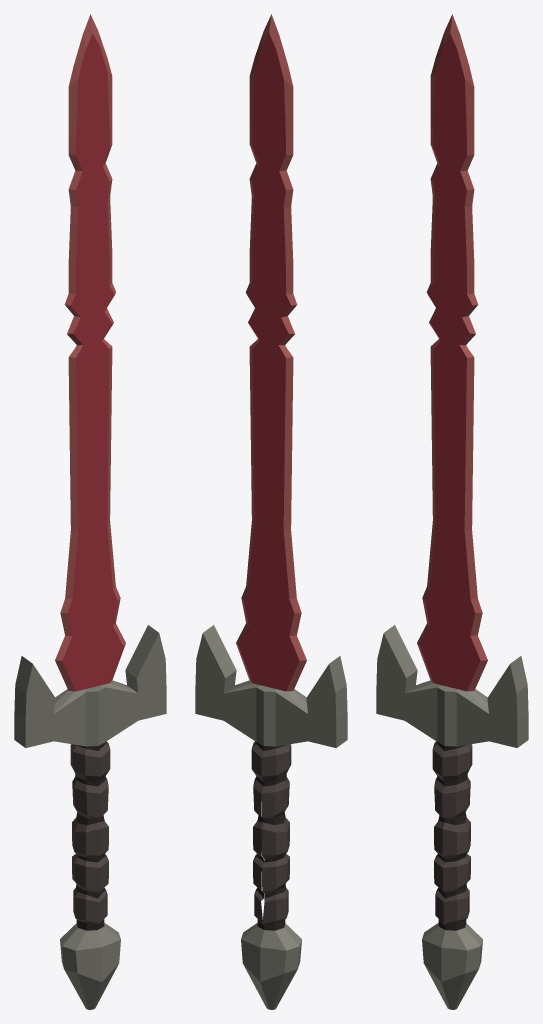
Rendered from Claymore.glb.
The picture shows the model from 3 angles, left to right: view 1: azimuth 30°, elevation 25°; view 2: azimuth 150°, elevation 25°; view 3: azimuth 330°, elevation 25°; orthographic projection.
Parts seen in each view (by area): view 1: Claymore; view 2: Claymore; view 3: Claymore.
Part boxes in pixels (bbox=[...]): Claymore: bbox=[14, 14, 166, 1009]; Claymore: bbox=[195, 14, 347, 1009]; Claymore: bbox=[376, 14, 528, 1009].
Size of the model in its own units: 0.9779 by 6.59 by 0.2713.
